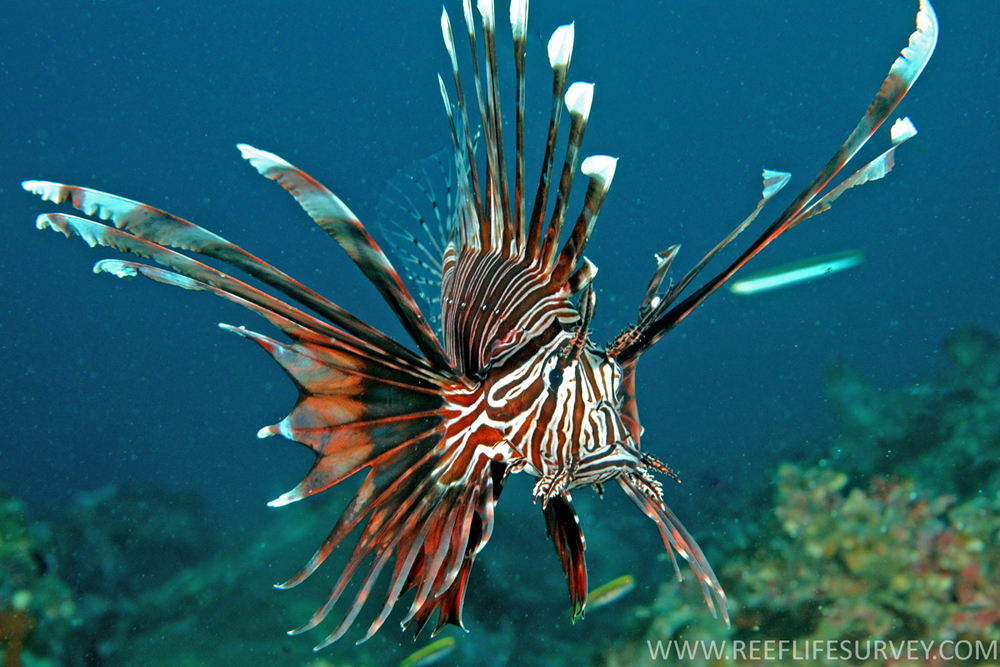Pterois_volitans: (14, 1, 949, 653)
